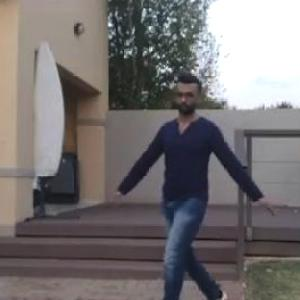land: (122, 78, 272, 299)
